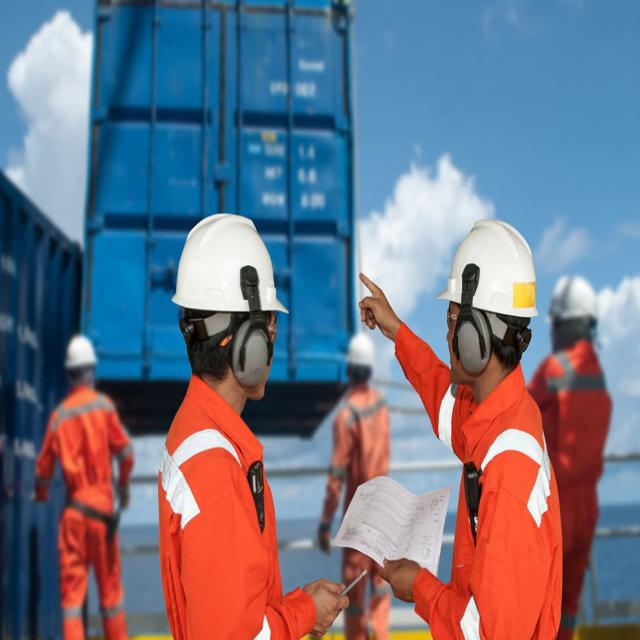Reflective-Jacket: (412, 375, 563, 640), (154, 384, 283, 640), (527, 334, 619, 506), (49, 386, 119, 534), (329, 382, 392, 492)
Safety-Helmet: (170, 206, 289, 324), (435, 211, 540, 327), (544, 266, 607, 334), (60, 327, 100, 376), (343, 329, 377, 368)
